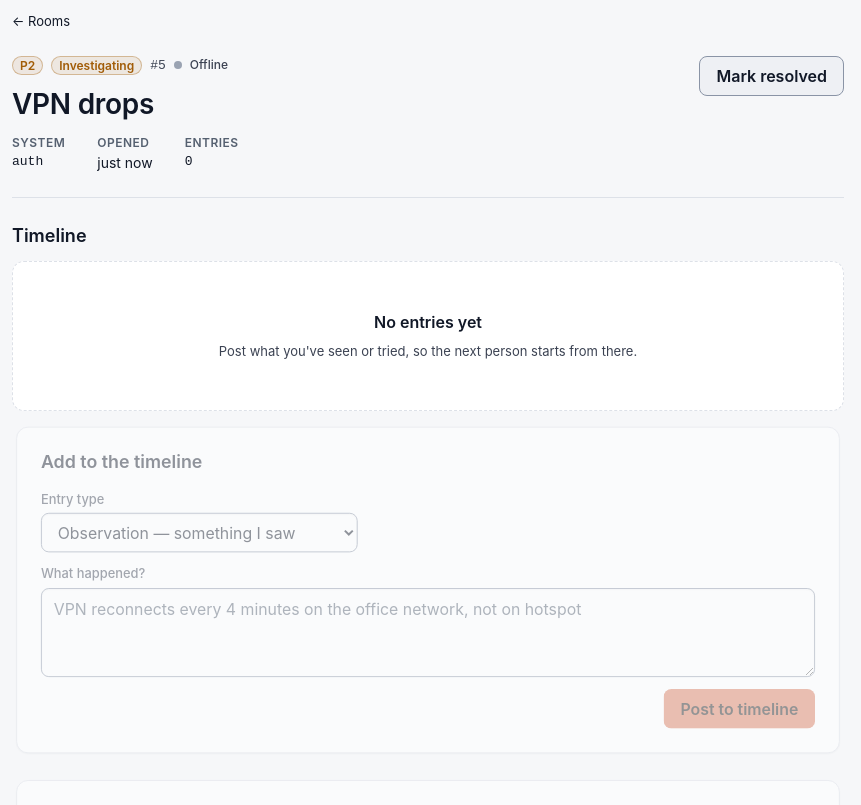
Test case: RoomDetailsPage › does not post an empty entry
What coordinates should you click on to do the following:
click the button "Post to timeline"
I would click on:
 (739, 708)
Its box is [664,688,815,728].
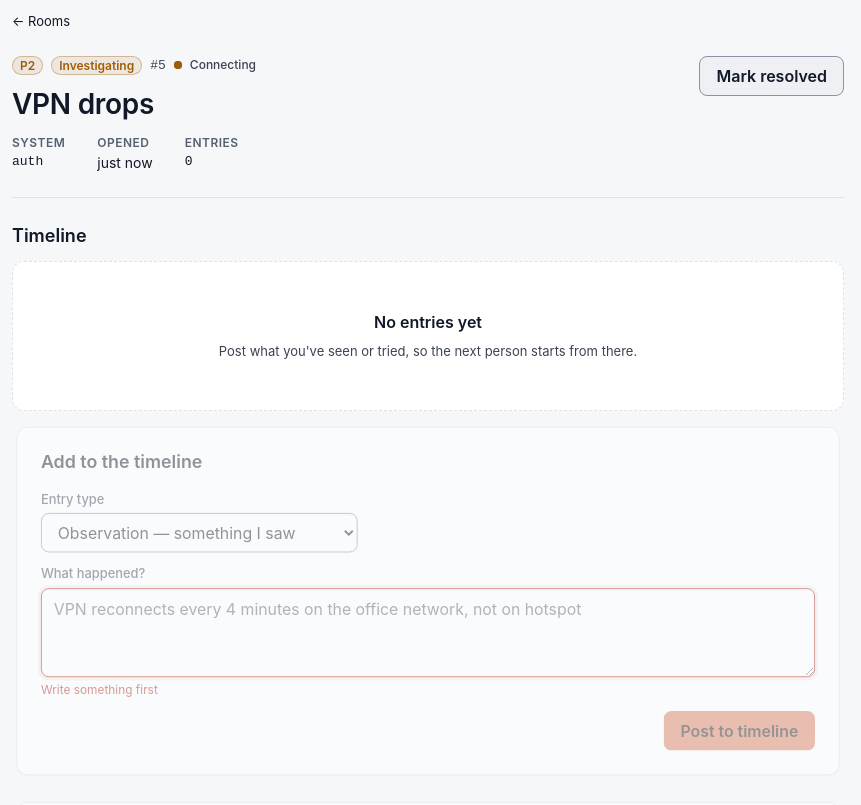
Expected: the text "Write something first" is shown, [41,681,158,696]
